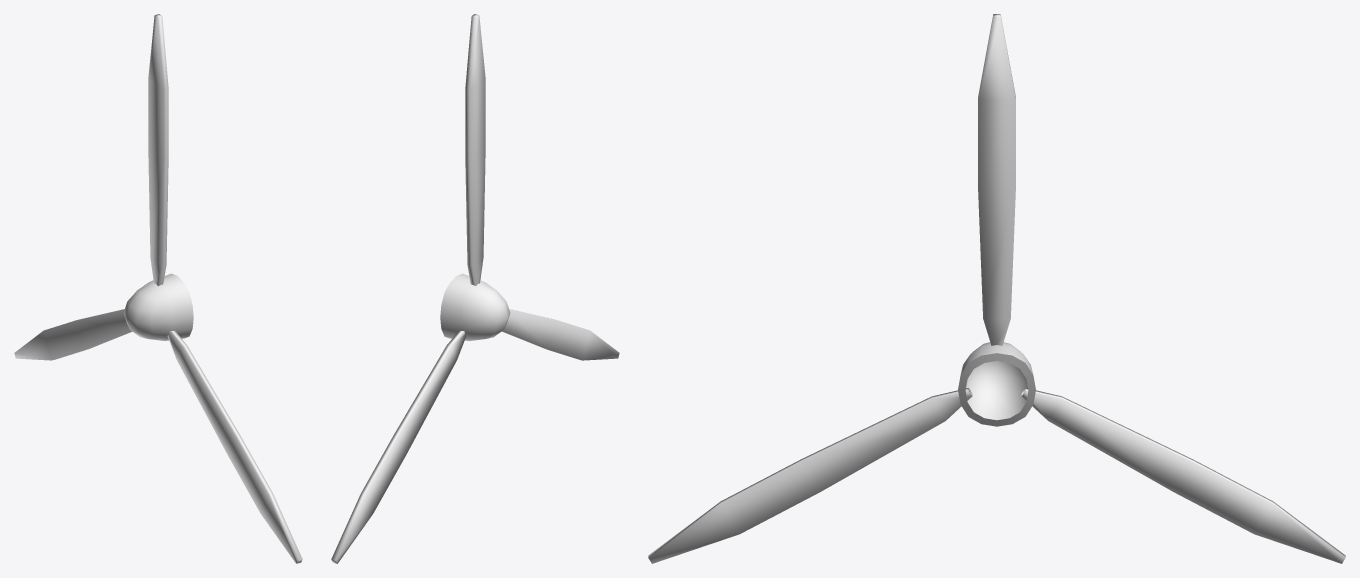
The model's file is Windturbine_Spinner.fbx.
The picture shows the model from 3 angles, left to right: view 1: azimuth 30°, elevation 25°; view 2: azimuth 150°, elevation 25°; view 3: azimuth 270°, elevation 25°; orthographic projection. The views are drawn at different scales.
Visible parts, largest first — view 1: Object093; view 2: Object093; view 3: Object093.
Boxes of the visible parts, <box> form: Object093: <box>14,14,302,563</box>; Object093: <box>331,14,619,563</box>; Object093: <box>648,14,1345,563</box>.
Size of the model in its own units: 102 by 821 by 948.
1 material, 1 textured.
